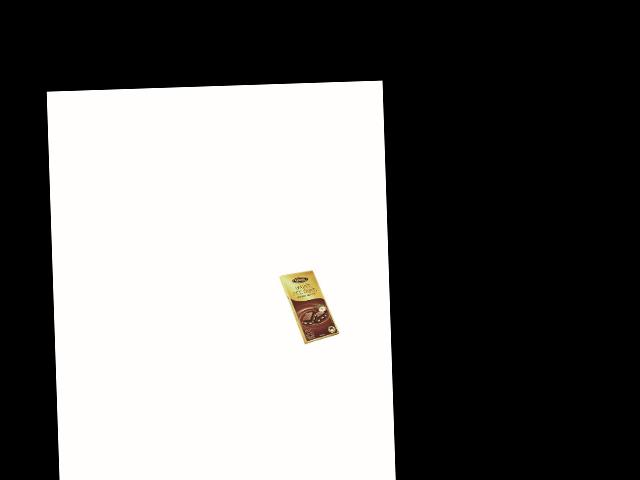chocolate: (277, 269, 339, 351)
